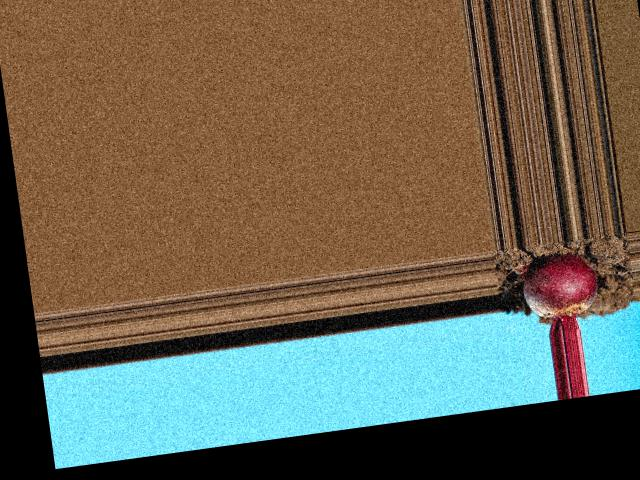beet: (518, 249, 603, 336)
